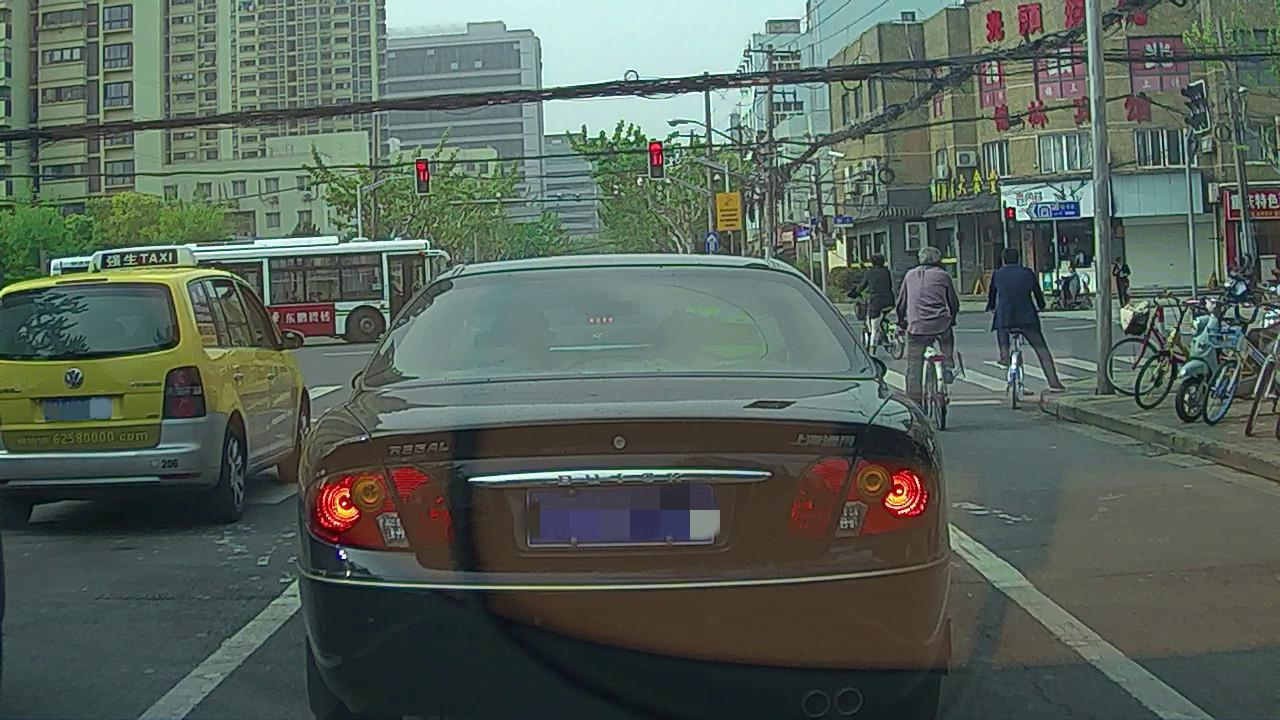traffic_light: (649, 142, 664, 178), (415, 159, 429, 193)
